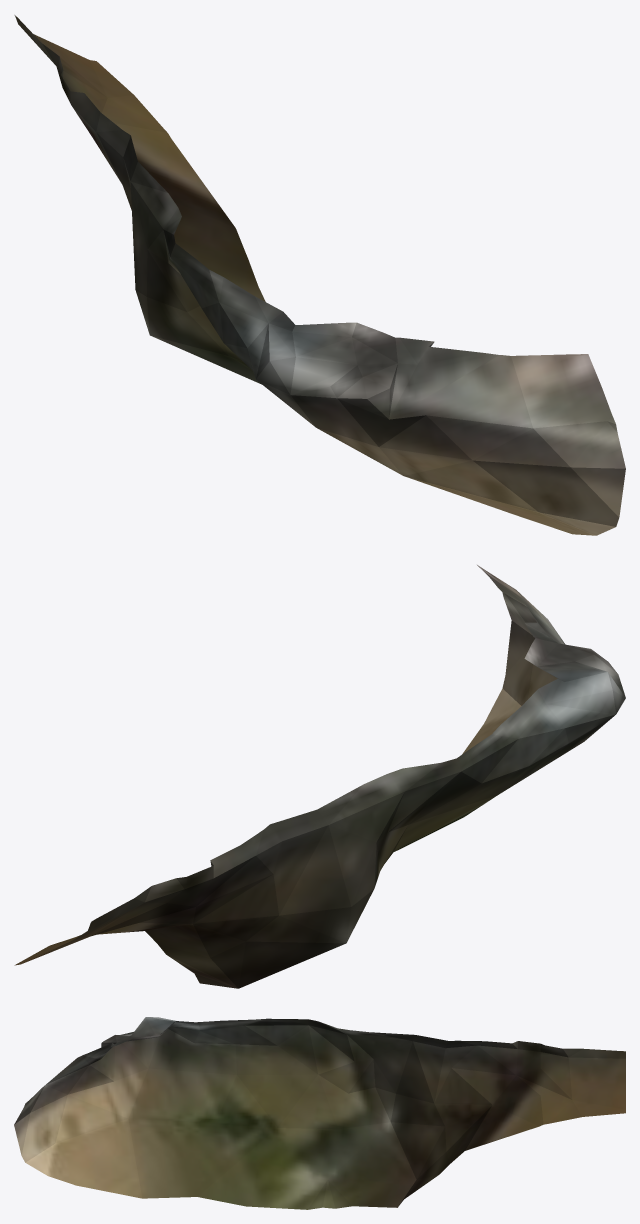
3 renders of one model, top to bottom at view 1: azimuth 30°, elevation 25°; view 2: azimuth 150°, elevation 25°; view 3: azimuth 270°, elevation 25°, orthographic. The views are drawn at different scales.
Bounding box in the file's own units: 0.2934 × 0.2728 × 1.12.
1 material, 1 textured.
